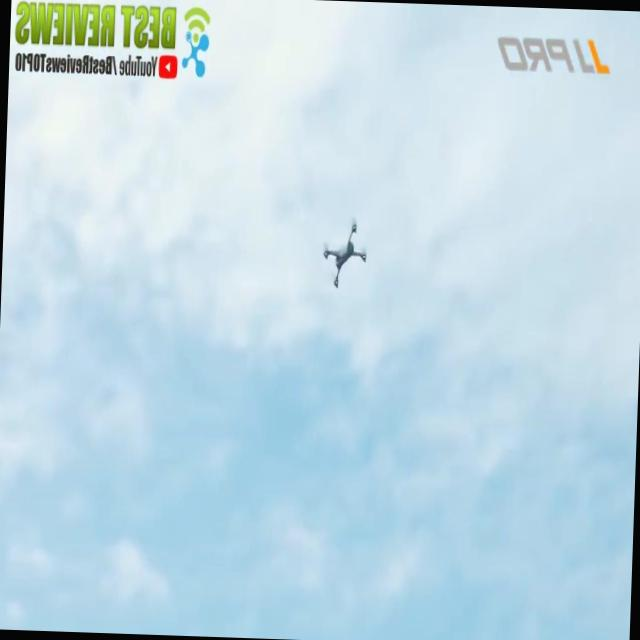drone: (321, 218, 369, 290)
